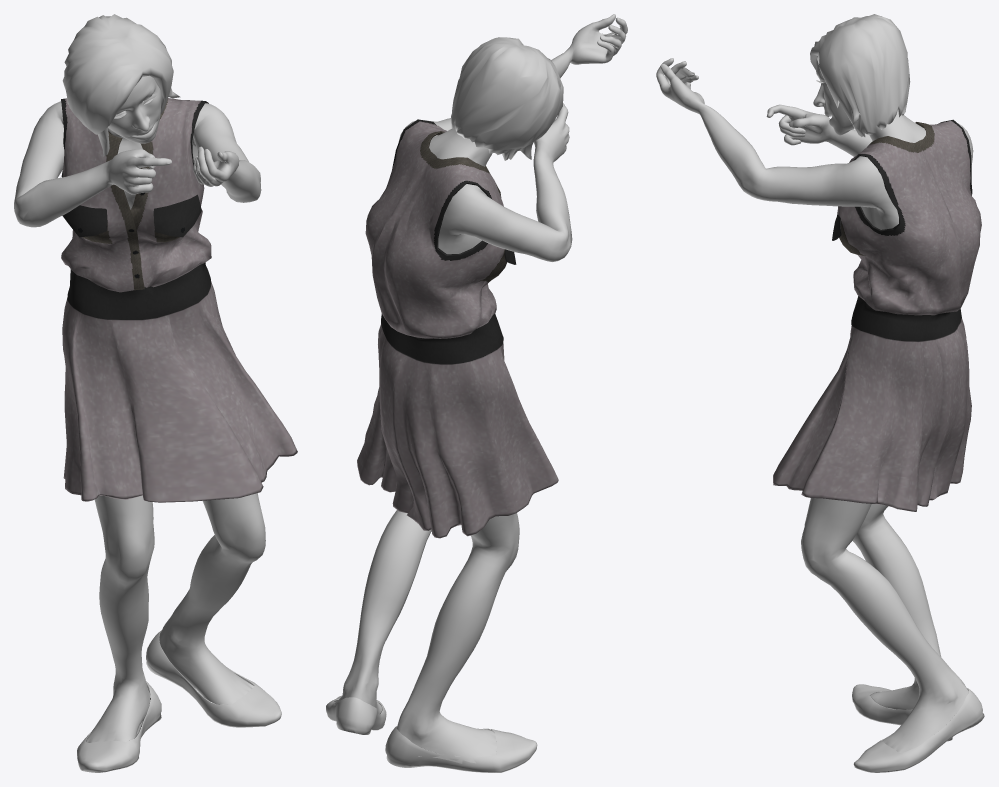
The model's file is model_1_anim_0_f0.obj.
The picture shows the model from 3 angles, left to right: view 1: azimuth 30°, elevation 25°; view 2: azimuth 150°, elevation 25°; view 3: azimuth 270°, elevation 25°; orthographic projection. The views are drawn at different scales.
Parts seen in each view (by area): view 1: Tops, Body, Hair, Shoes; view 2: Tops, Body, Hair, Shoes; view 3: Tops, Body, Hair, Shoes.
Part boxes in pixels (x1,y1,x2,y2): Tops: [61, 98, 297, 502]; Body: [14, 75, 265, 742]; Hair: [62, 14, 180, 156]; Shoes: [77, 630, 281, 772]; Tops: [357, 119, 558, 538]; Body: [334, 14, 627, 763]; Hair: [451, 37, 563, 160]; Shoes: [326, 695, 537, 772]; Tops: [773, 119, 981, 511]; Body: [656, 56, 973, 752]; Hair: [810, 14, 910, 136]; Shoes: [852, 684, 984, 772].
Size of the model in its own units: 116 by 333 by 143.
